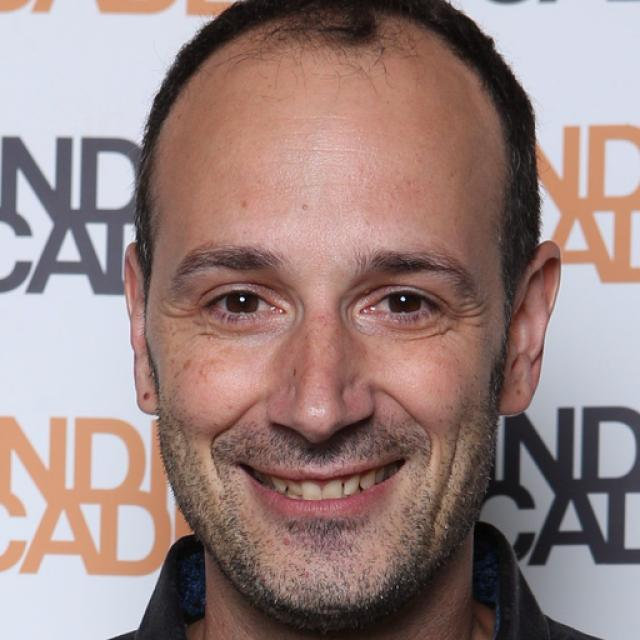Acne: (273, 534, 295, 549), (295, 199, 313, 214)
Pigmentation: (167, 351, 227, 380)
